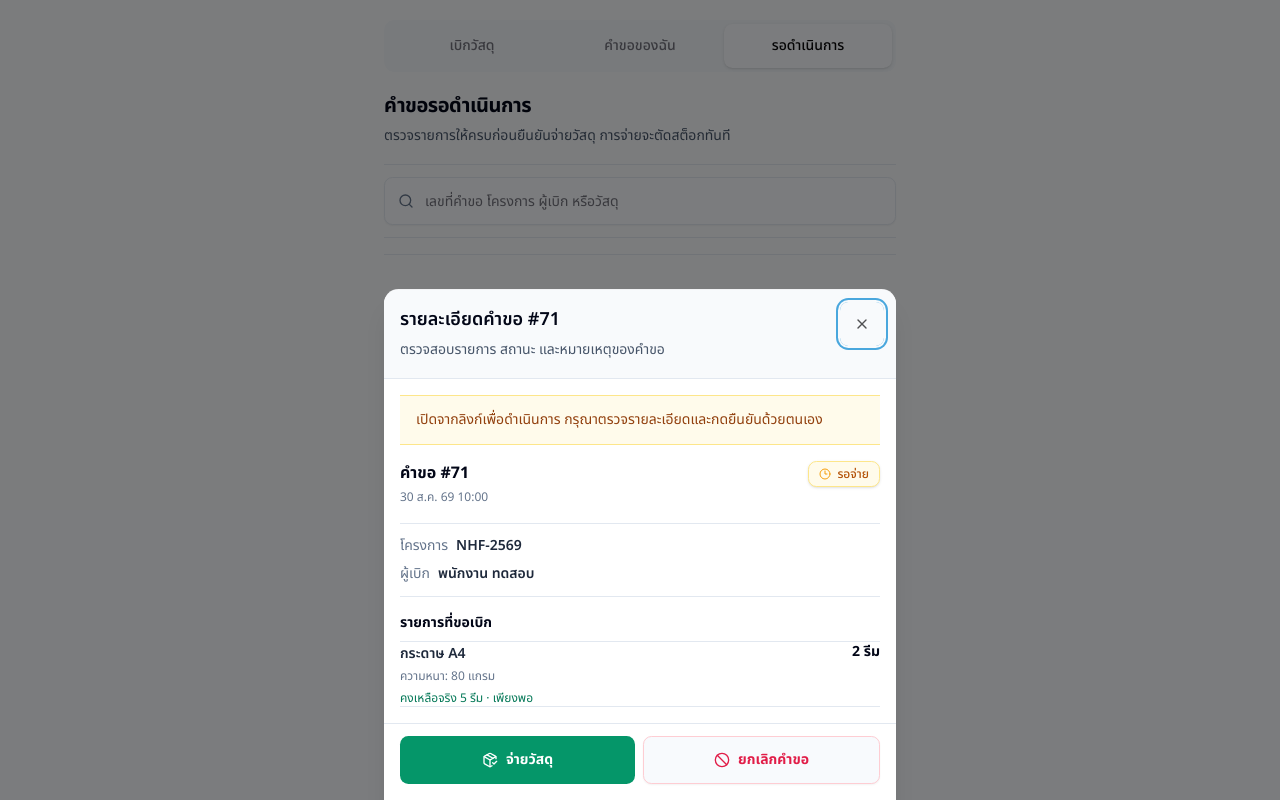
Test: LIFF Stock app orchestration › refreshes Stock state after recovered issue ambiguity without issuing twice
Expected: the text "เปิดจากลิงก์เพื่อดำเนินการ กรุณาตรวจรายละเอียดและกดยืนยันด้วยตนเอง" is shown, [400,395,880,445]
Click the button "จ่ายวัสดุ".
click(518, 760)  # box [400,736,635,784]
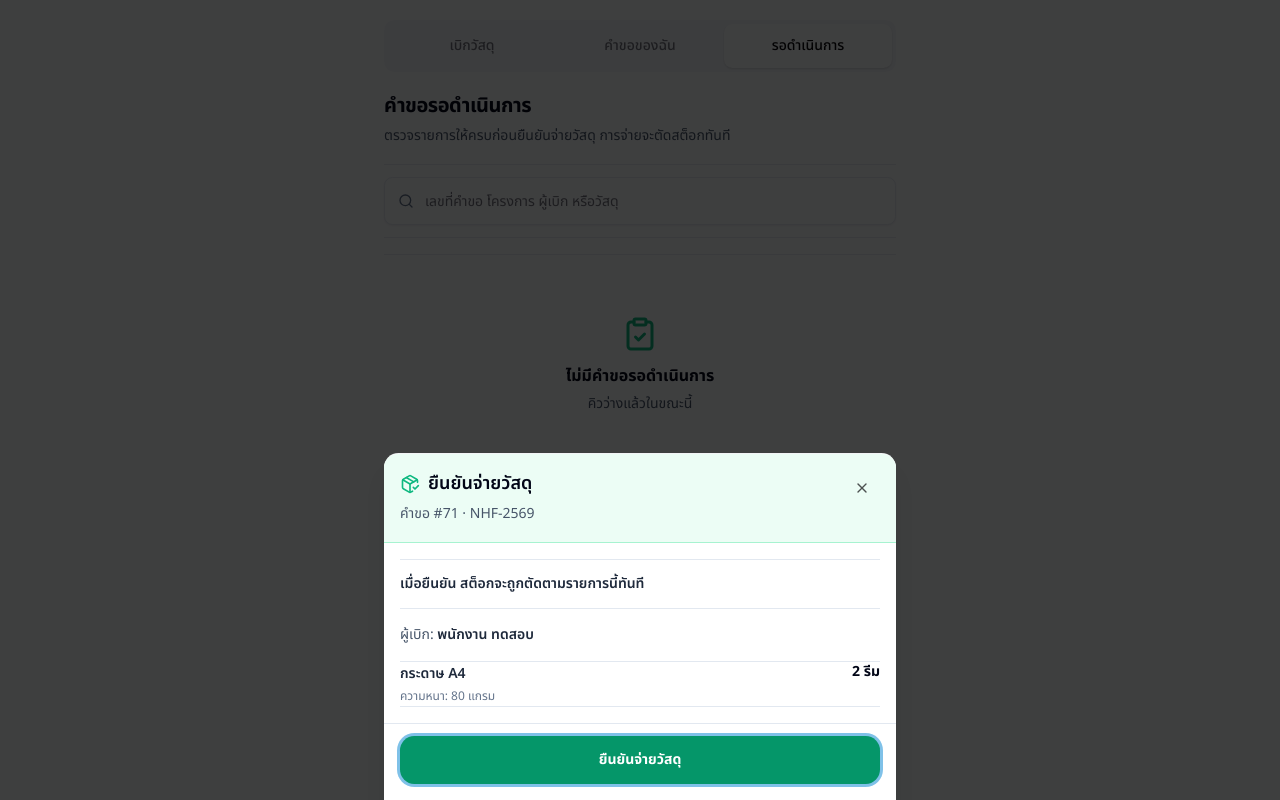
Click the button "ยืนยันจ่ายวัสดุ".
click(640, 760)  # box [400,736,880,784]
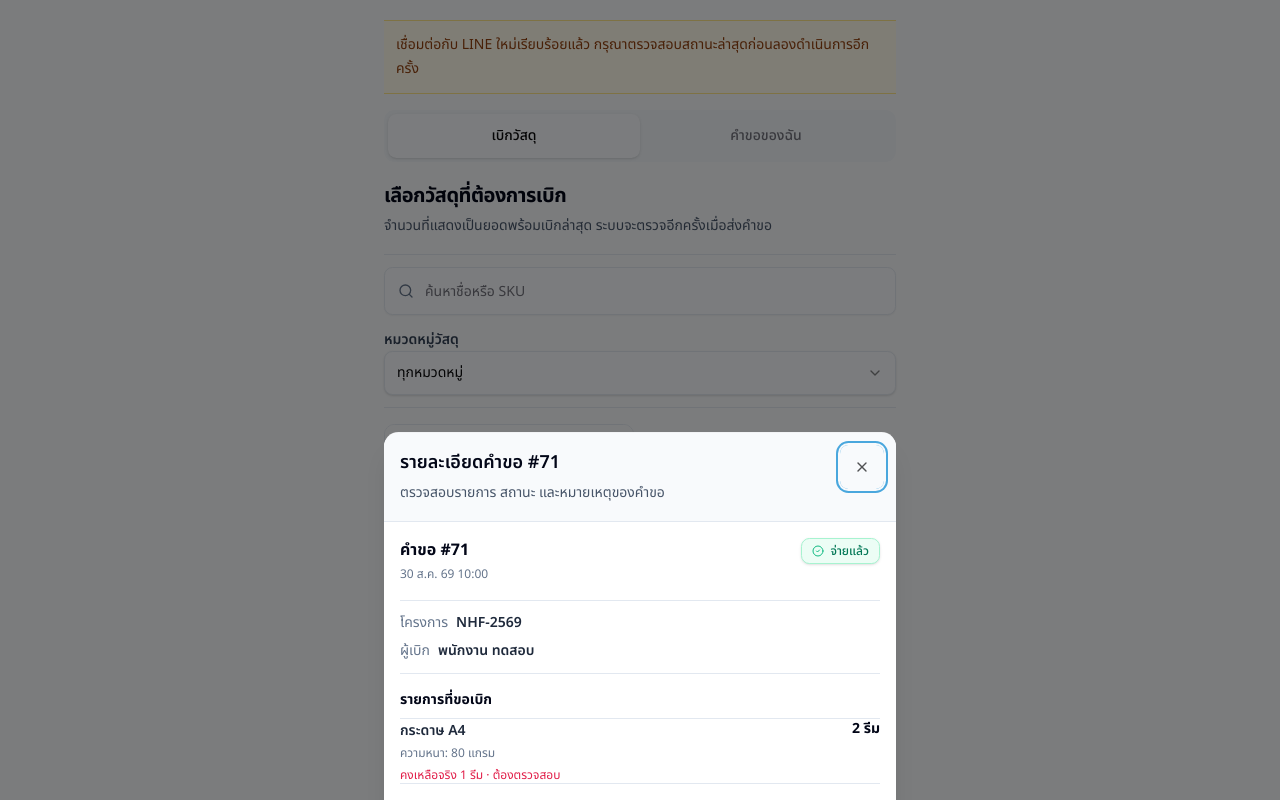
Now the text "เชื่อมต่อกับ LINE ใหม่เรียบร้อยแล้ว กรุณาตรวจสอบสถานะล่าสุดก่อนลองดำเนินการอีกครั้ง" is shown, box [396,34,869,79]
Now the text "คงเหลือจริง 1 รีม · ต้องตรวจสอบ" is shown, box [400,766,560,784]
Now the text "จ่ายวัสดุ" is gone
